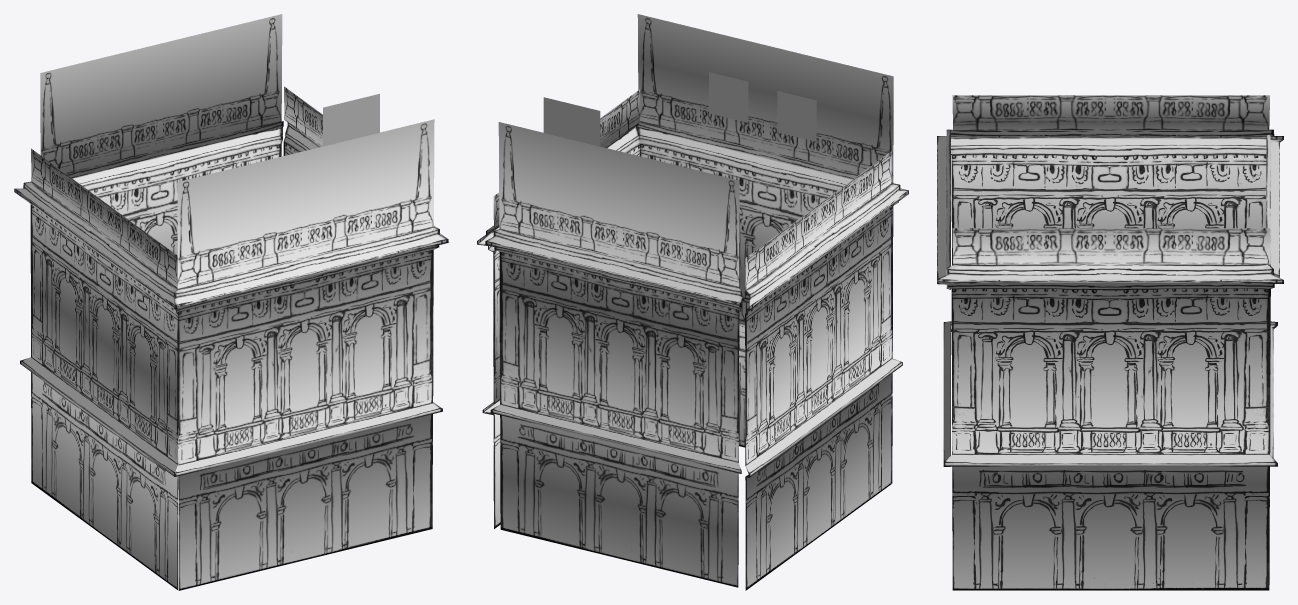
File: palazzotto.dae
3 views of the same model, side by side, from view 1: azimuth 30°, elevation 25°; view 2: azimuth 150°, elevation 25°; view 3: azimuth 270°, elevation 25° (orthographic). The views are drawn at different scales.
Visible parts, largest first — view 1: palazzotto (×4), statua; view 2: palazzotto (×4), statuetta (×2), statua; view 3: palazzotto (×4).
Boxes of the visible parts, left/top/right/bottom form: palazzotto (×4): left=14, top=14, right=448, bottom=590; statua: left=323, top=94, right=379, bottom=146; palazzotto (×4): left=477, top=14, right=908, bottom=590; statuetta (×2): left=709, top=72, right=816, bottom=141; statua: left=543, top=97, right=600, bottom=146; palazzotto (×4): left=937, top=95, right=1283, bottom=590.
Bounding box in the file's own units: 261 × 358 × 254.
